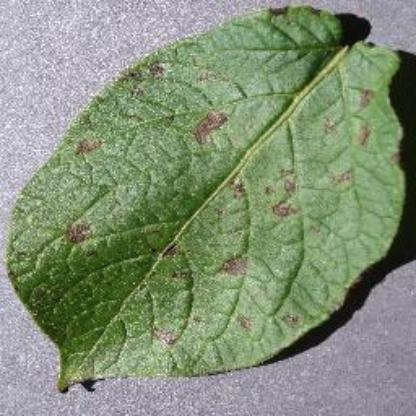Early-Blight: (10, 6, 408, 394)
